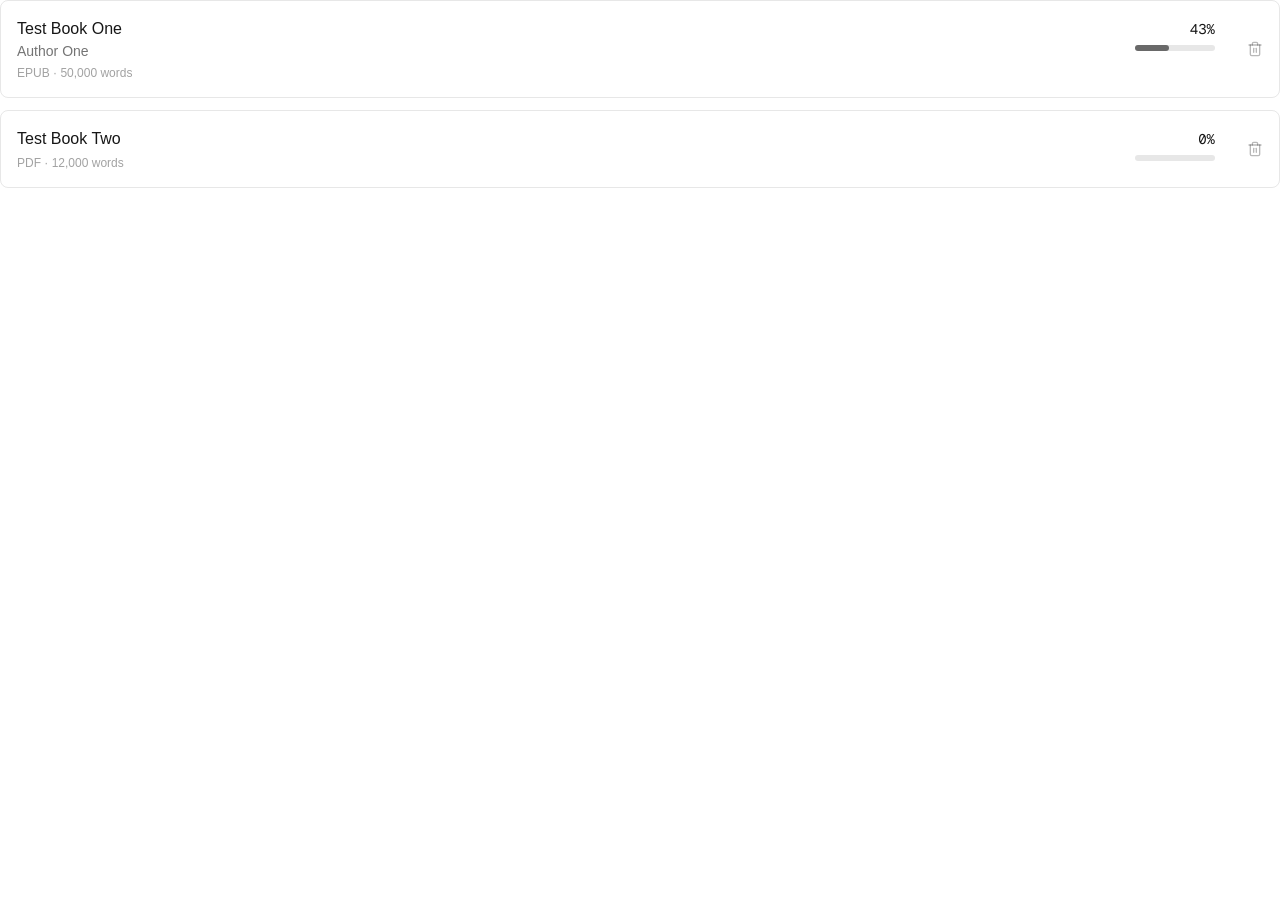
it: BookList › closes dialog on cancel
The width and height of the screenshot is (1280, 900).
Click the button named "Delete Test Book One": (1255,49) left=1231, top=25, right=1279, bottom=73
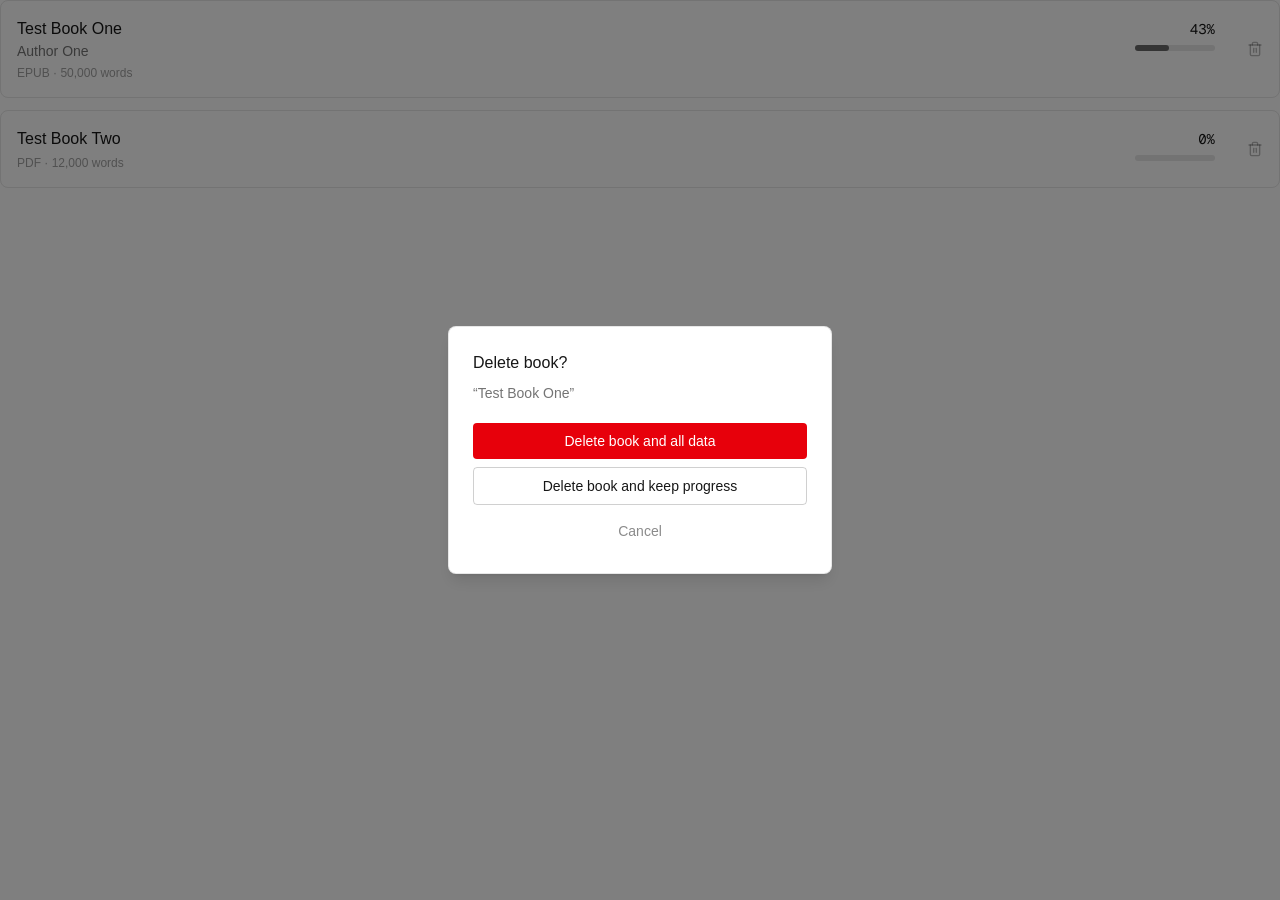
Click the button "Cancel": (640,531) left=473, top=513, right=807, bottom=549
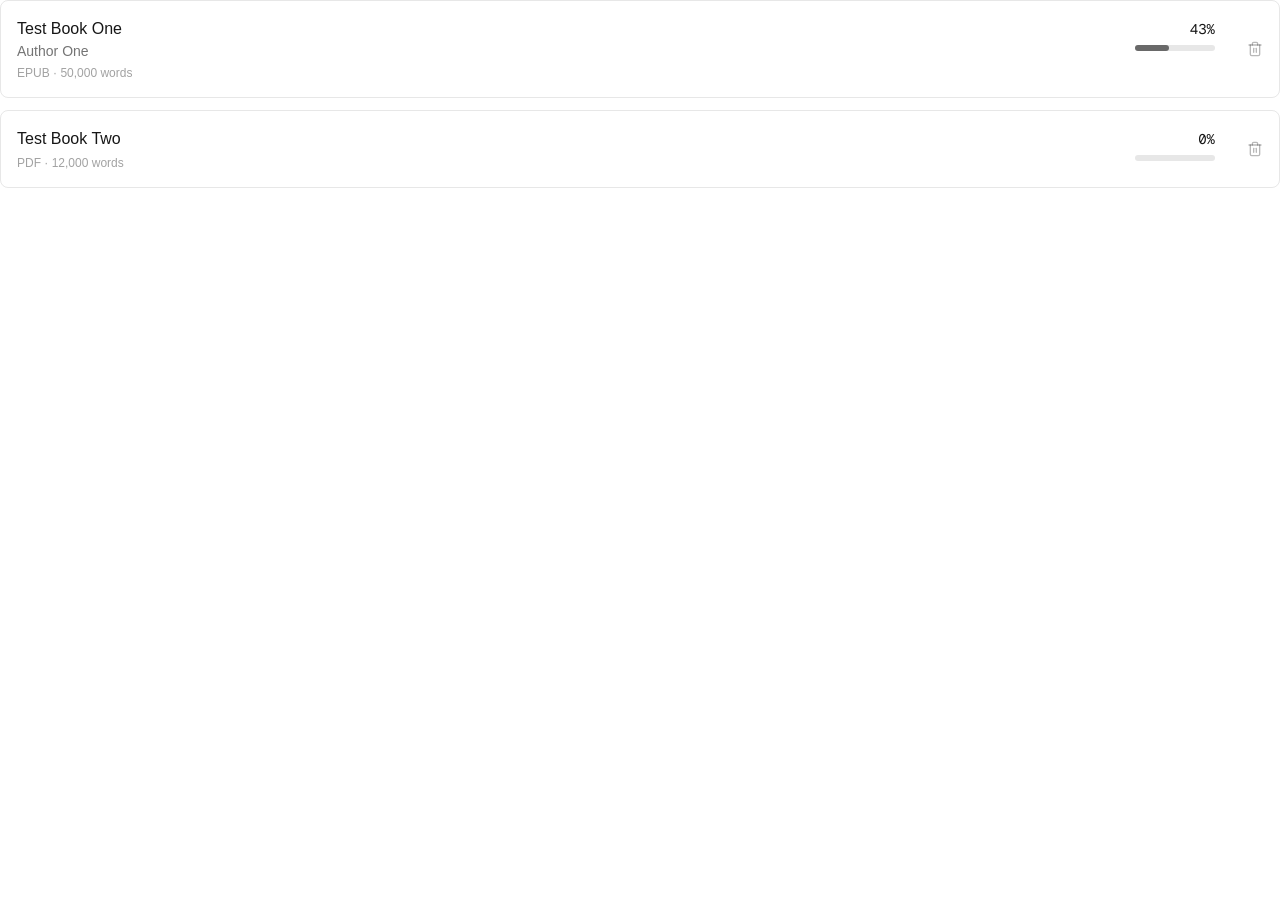
Expected: the dialog is gone
